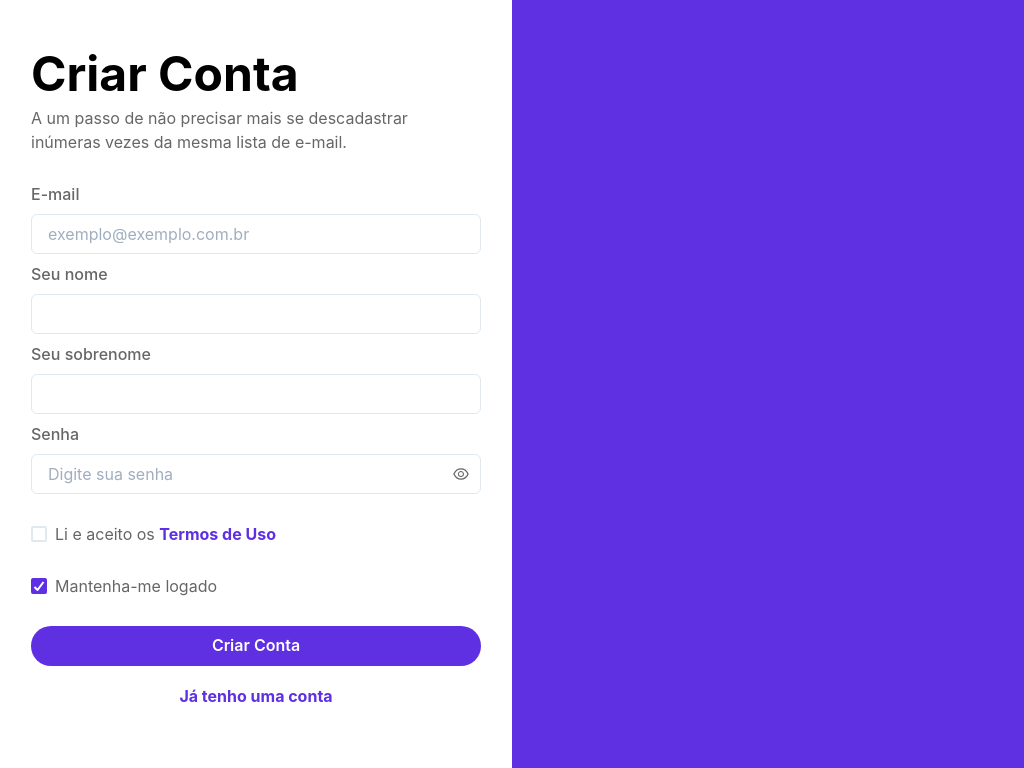
Test: Signup › should click on the accept terms checkbox must open the accept terms modal and click on the cancel do not change the checkbox
The image size is (1024, 768).
Click the checkbox with test id "terms-field".
click(154, 534)  # box [31,522,276,546]
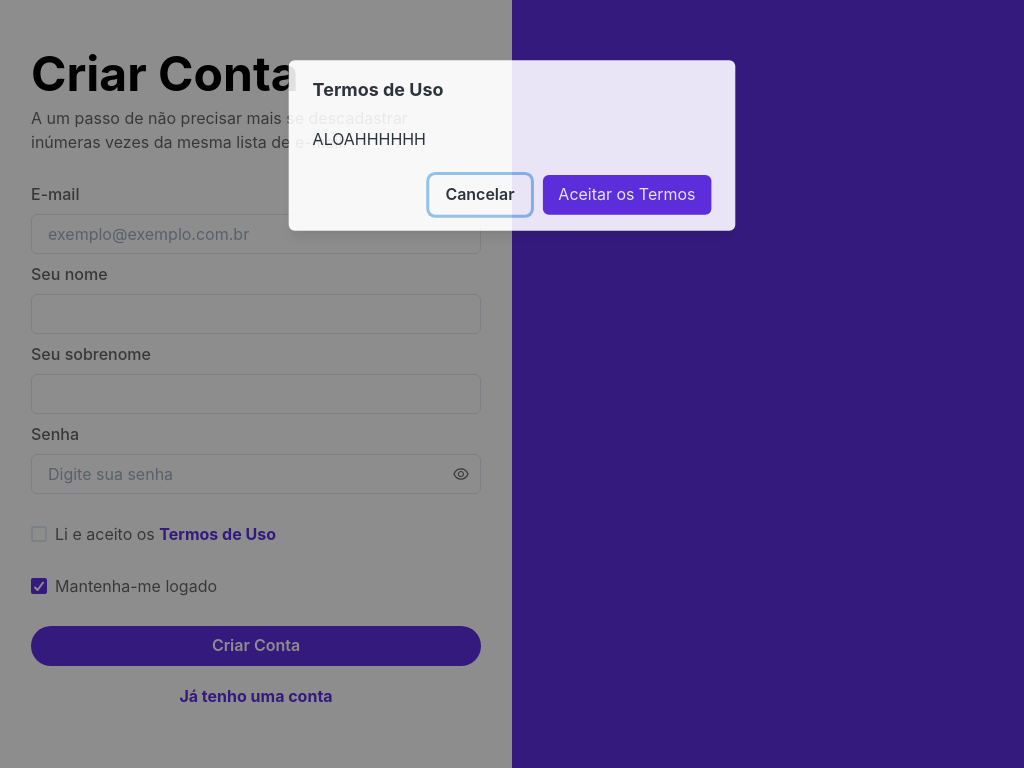
Expected: the dialog is shown, [289,60,735,231]
Click the button with test id "cancel-button".
click(480, 195)  # box [430,175,530,215]
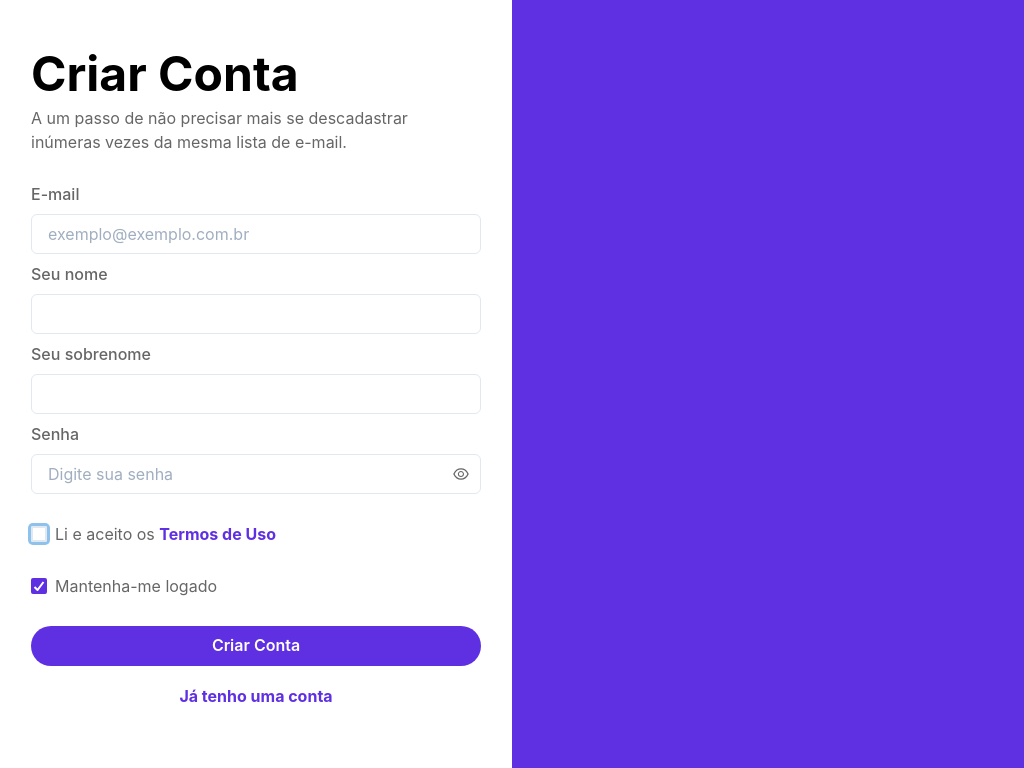
Expected: the checkbox labelled "Li e aceito os Termos de Uso" is not checked, [31,522,276,546]
Expected: the dialog is gone
